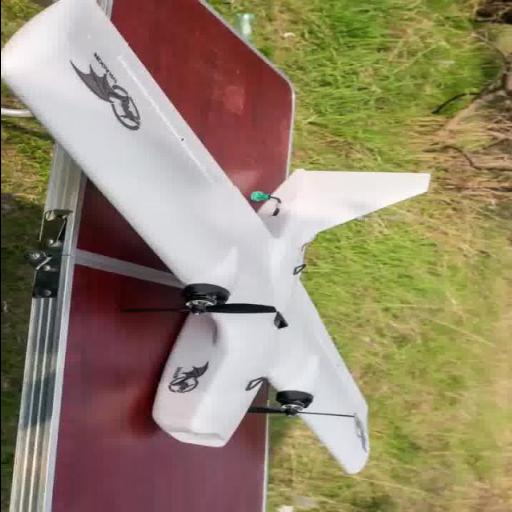uav: (2, 0, 436, 476)
